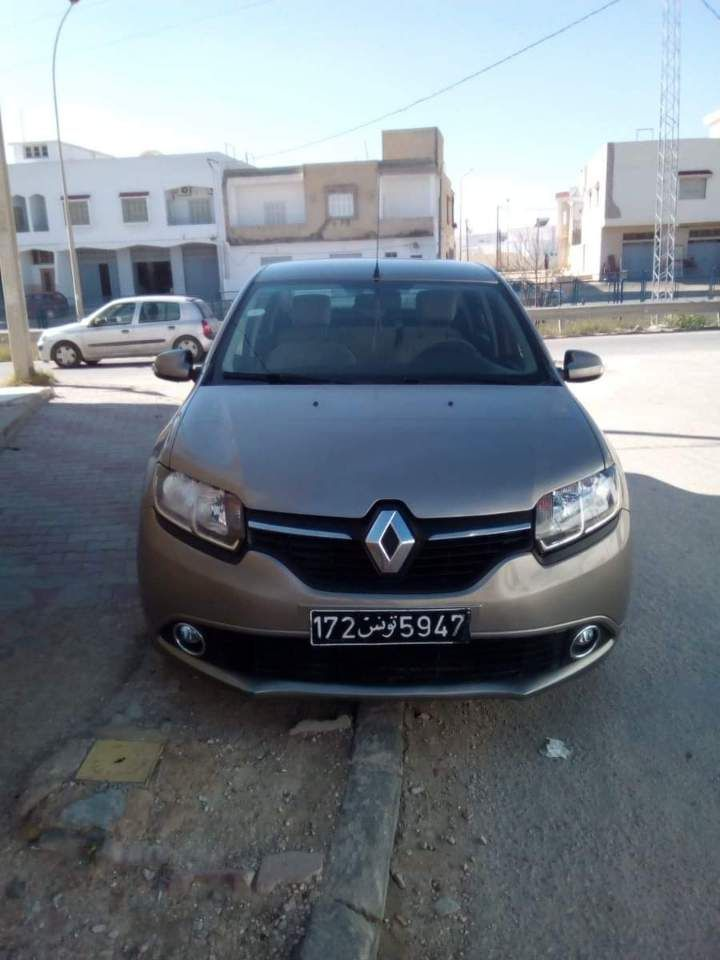LP: (313, 606, 473, 647)
